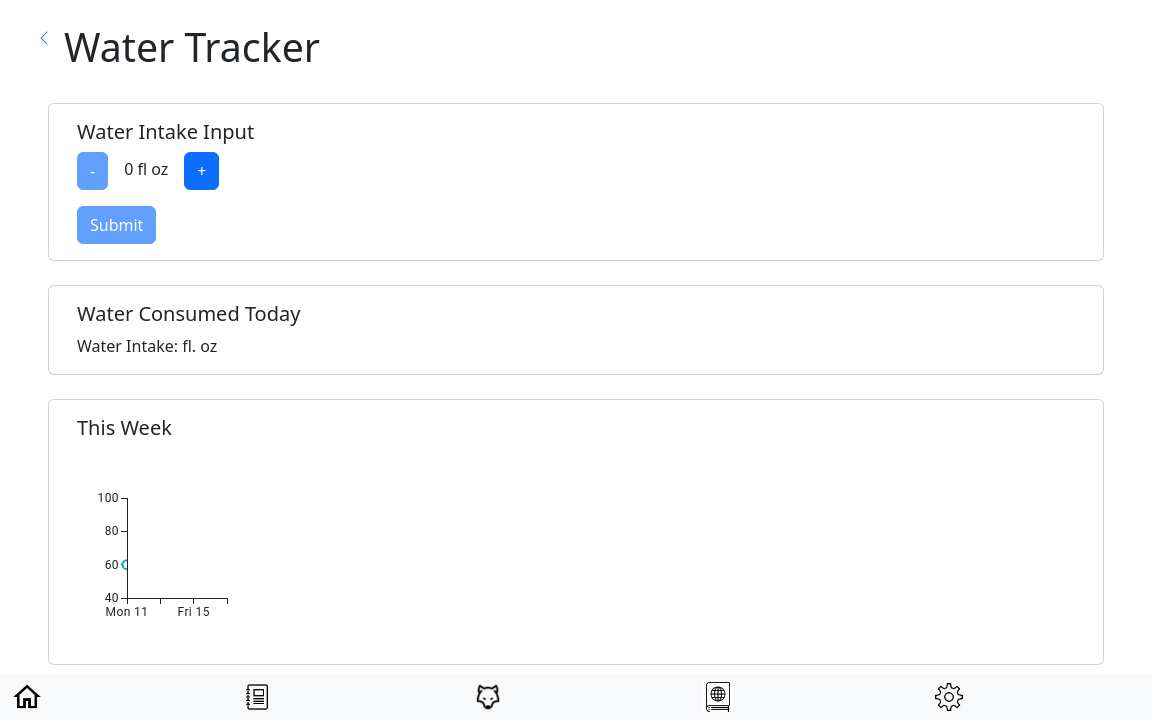
Test: Unit: Water Page › add 16 fl oz of water, then subtract 8 fl oz
Expected: the heading "Water Tracker" is shown, [64,24,320,71]
Expected: the text with test id "waterCounter" reads "0 fl oz", [124,150,168,180]
// click the add button, add 8 fl oz
Click the button with test id "addition-button".
click(202, 171)  # box [184,152,220,190]
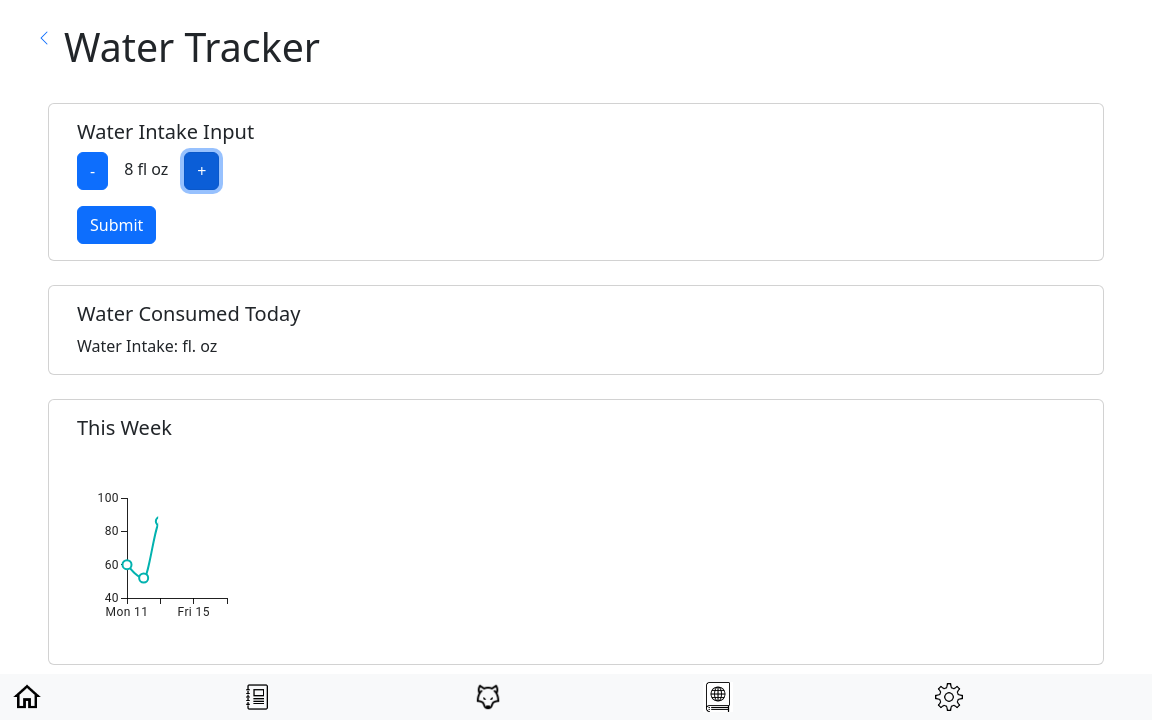
Expected: the text with test id "waterCounter" reads "8 fl oz", [124,150,168,180]
// 16 fl oz
Click the button with test id "addition-button".
click(202, 171)  # box [184,152,220,190]
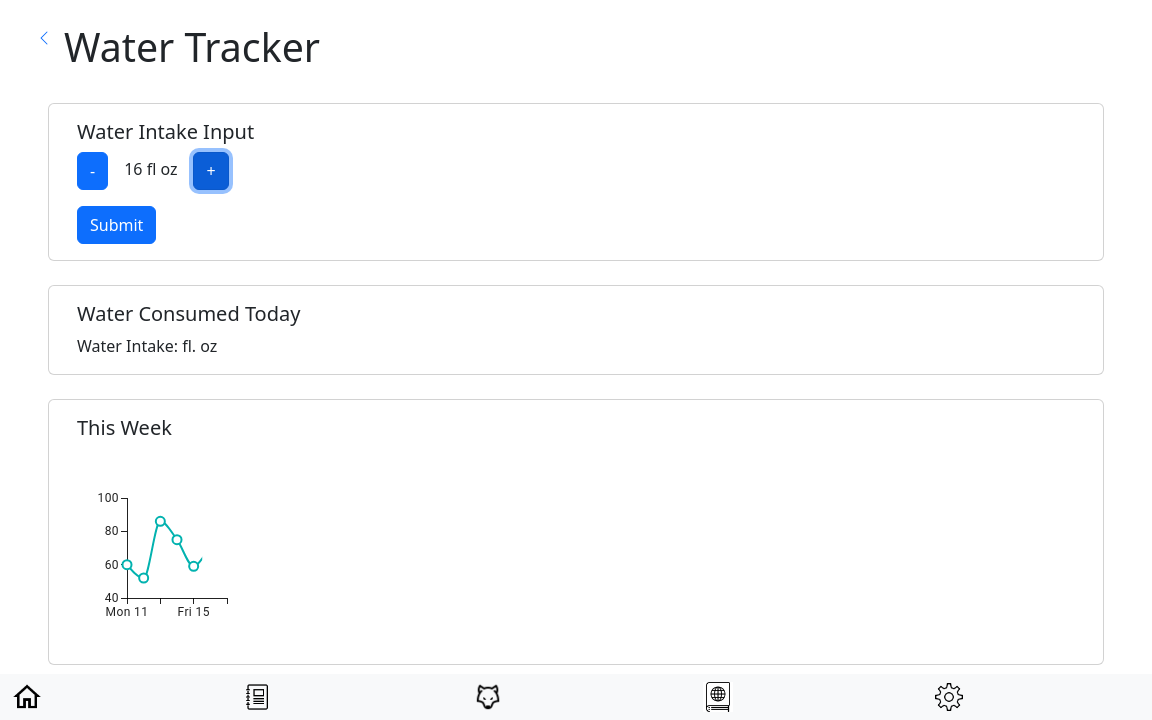
Expected: the text with test id "waterCounter" reads "16 fl oz", [124,150,178,180]
Click the button with test id "subtract-button".
click(93, 171)  # box [77,152,108,190]
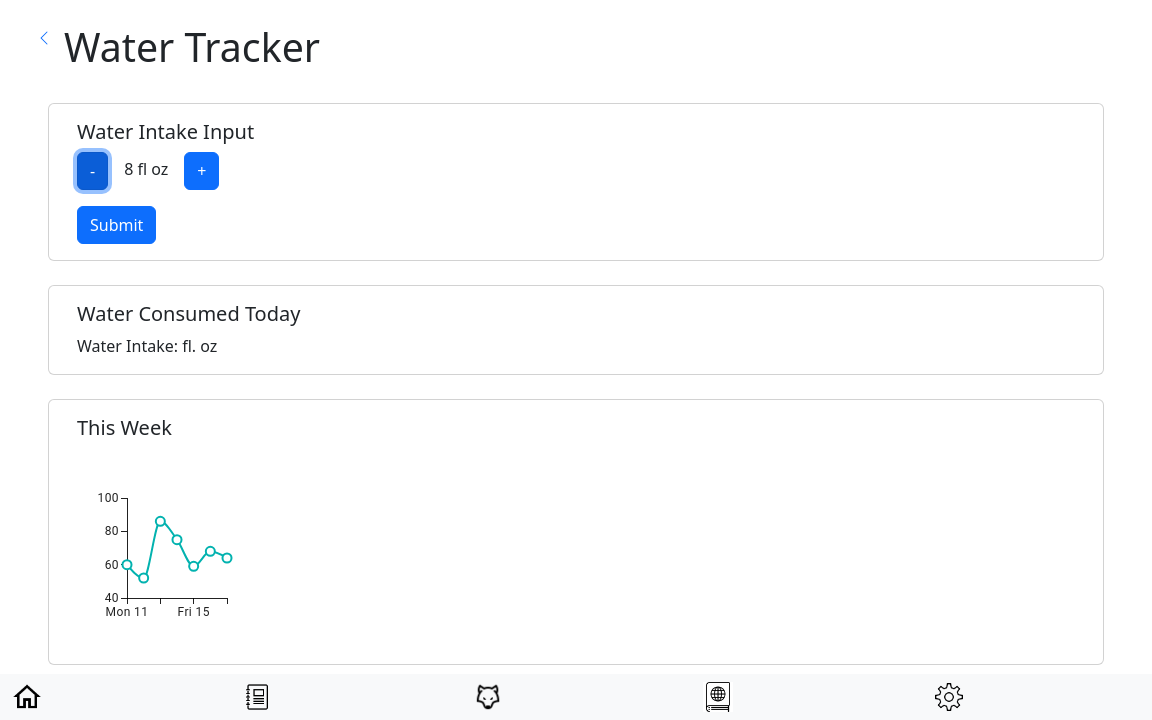
Expected: the text with test id "waterCounter" reads "8 fl oz", [124,150,168,180]
